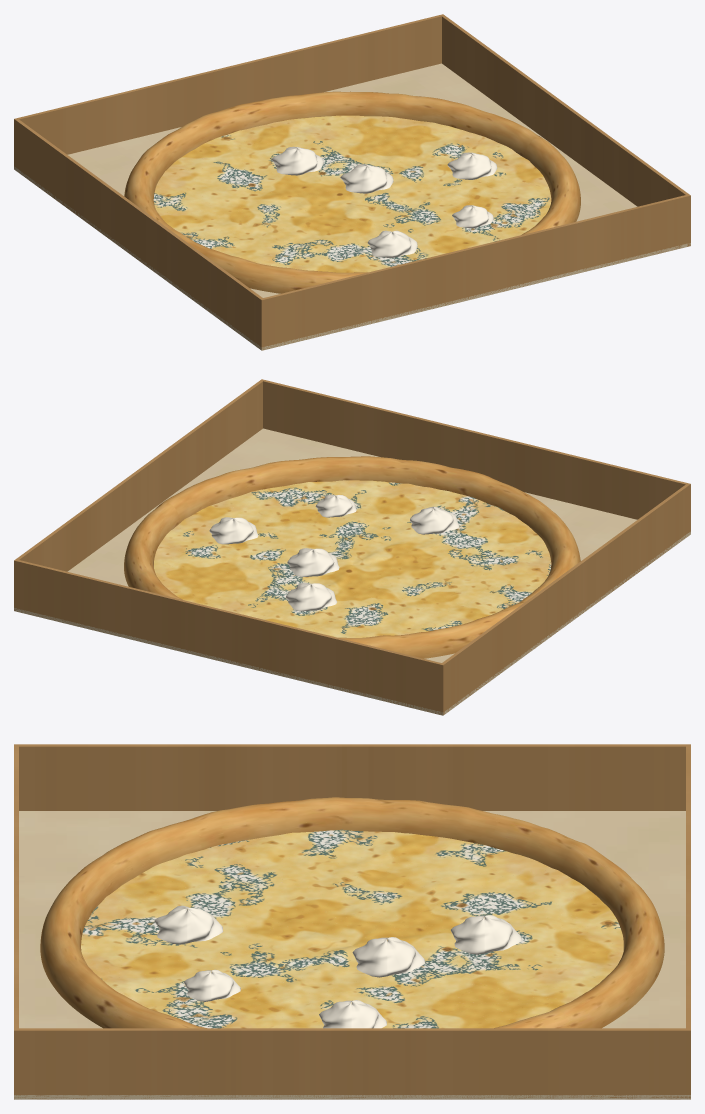
Rendered from pizza-caixa-quatro-queijos.glb.
3 renders of one model, top to bottom at view 1: azimuth 30°, elevation 25°; view 2: azimuth 150°, elevation 25°; view 3: azimuth 270°, elevation 25°, orthographic. The views are drawn at different scales.
Parts seen in each view (by area): view 1: pizza-caixa-quatro-queijos; view 2: pizza-caixa-quatro-queijos; view 3: pizza-caixa-quatro-queijos.
Boxes of the visible parts, x1,y1,x2,y2 form: pizza-caixa-quatro-queijos: (14,14,690,350); pizza-caixa-quatro-queijos: (14,379,690,715); pizza-caixa-quatro-queijos: (14,744,690,1099).
Size of the model in its own units: 0.4 by 0.045 by 0.4.
5 materials, 4 textured.
